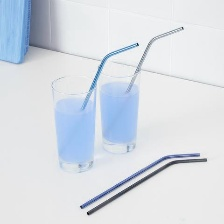drinking_straw: (77, 148, 209, 217), (122, 22, 188, 96), (80, 38, 141, 115)
glass: (47, 71, 102, 176), (95, 59, 146, 156)
